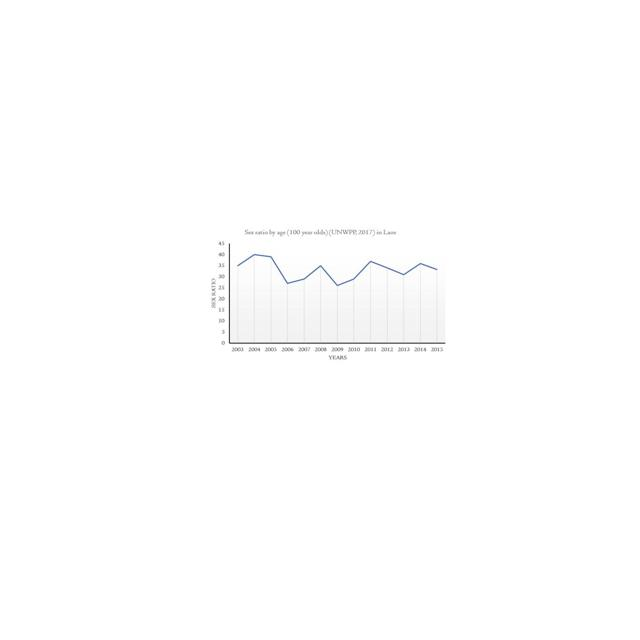Graph: (210, 227, 447, 364)
